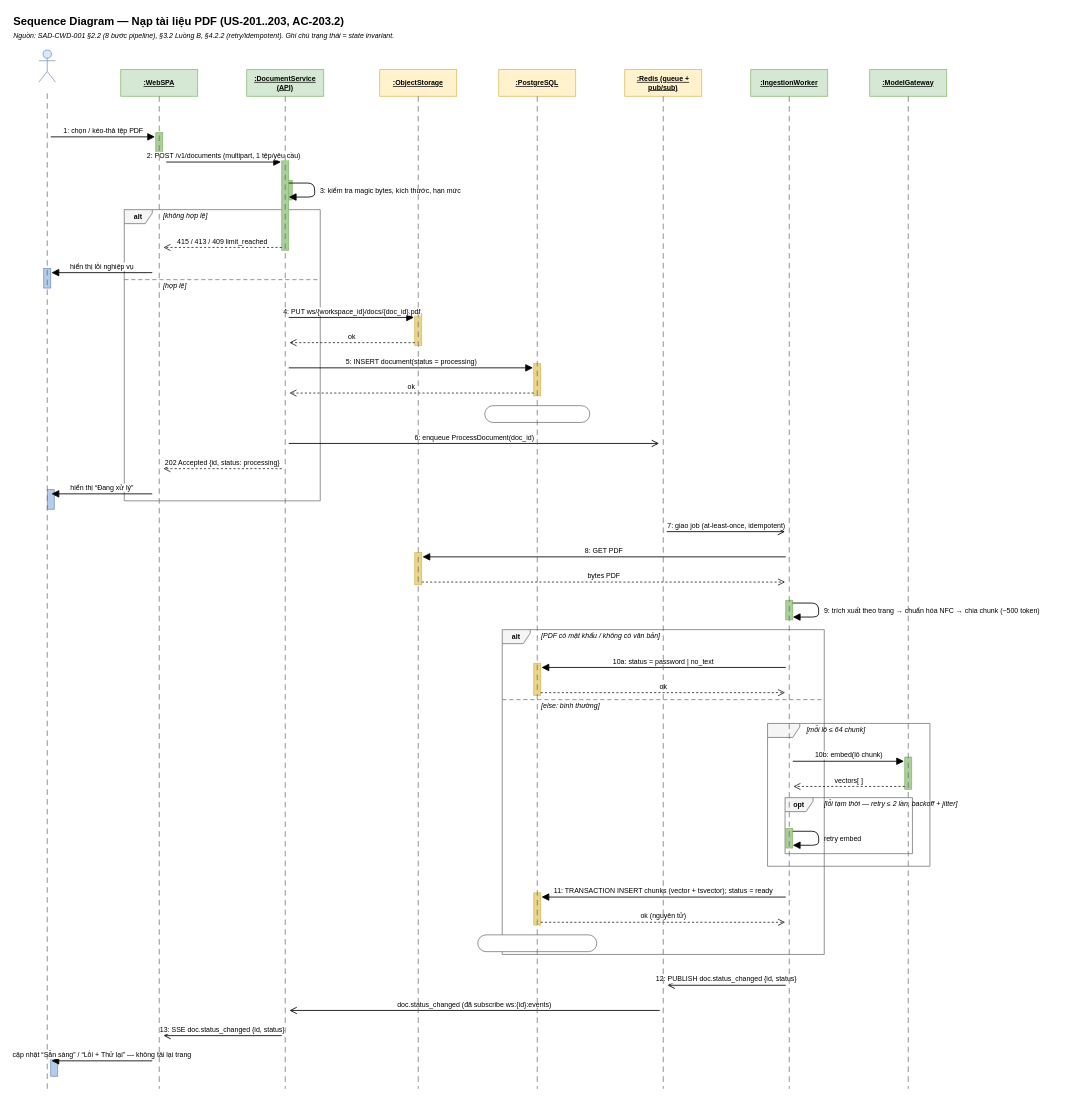
Some shapes in this 1086 by 1102 pixel diagram are drawn without their labels. Here are the shapes that lost their labels. From the top down, the box of each, then its label:
(38, 49, 56, 82): Linh
(484, 405, 590, 422): { status = processing }
(767, 723, 930, 866): loop
(477, 934, 597, 952): { status = ready ⇒ đủ chunk }
